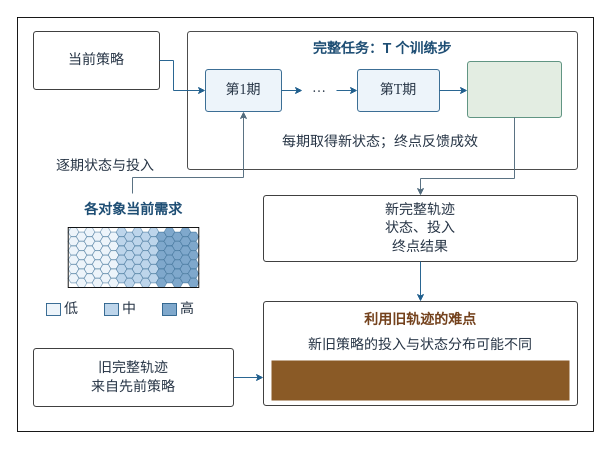
Some shapes in this 611 by 449 pixel diagram are drawn without their labels. The centre of each missing label's shape, as x and y in pixels:
"同等成效下，如何利用旧轨迹 减少训练步数？" goes at point (420, 380).
"终点反馈" goes at point (514, 89).
